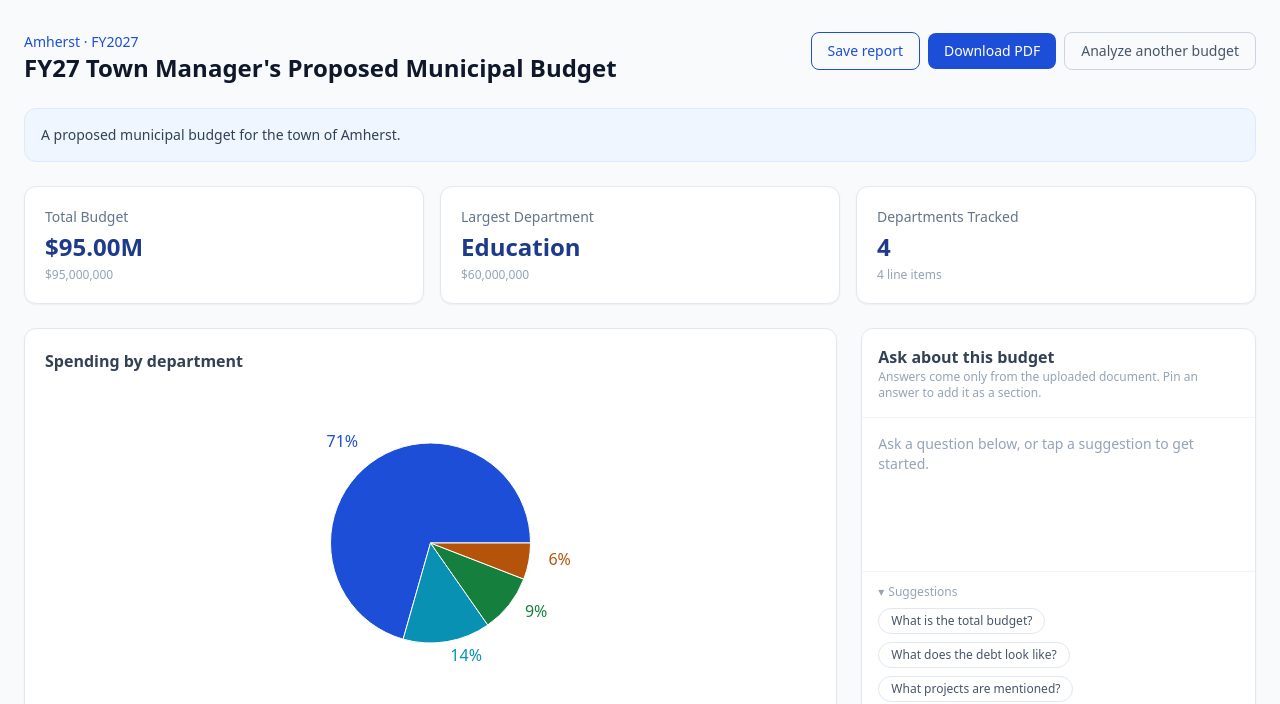
Test: Dashboard › saves the report to localStorage
Click the button "Save report".
click(865, 51)  # box [810,32,920,70]
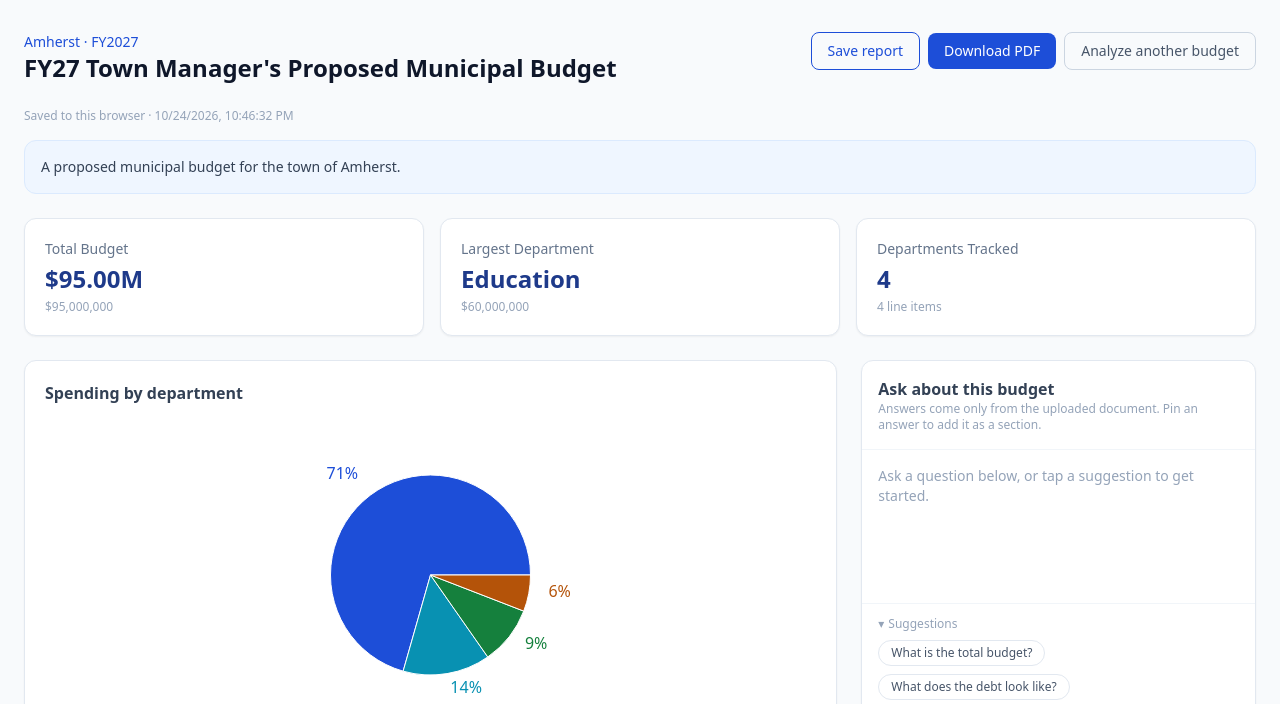
expect the text "Saved to this browser · 10/24/2026, 10:46:32 PM" is shown: met, box [24,107,294,124]
